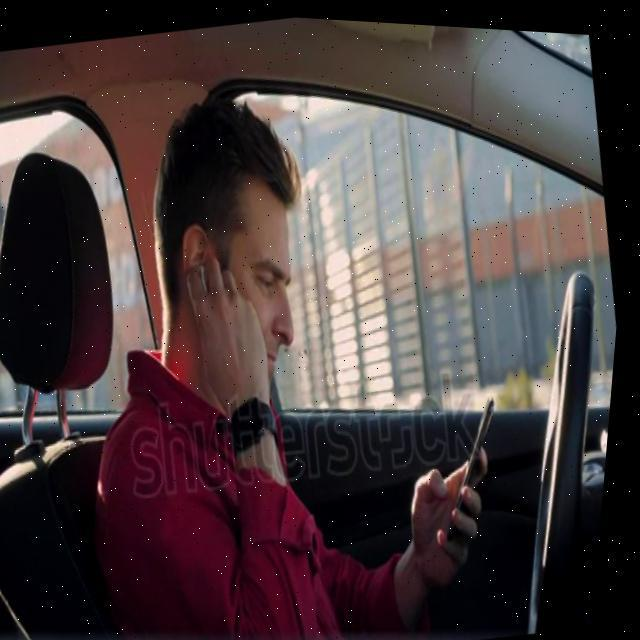PhoneCall: (428, 381, 526, 540)
